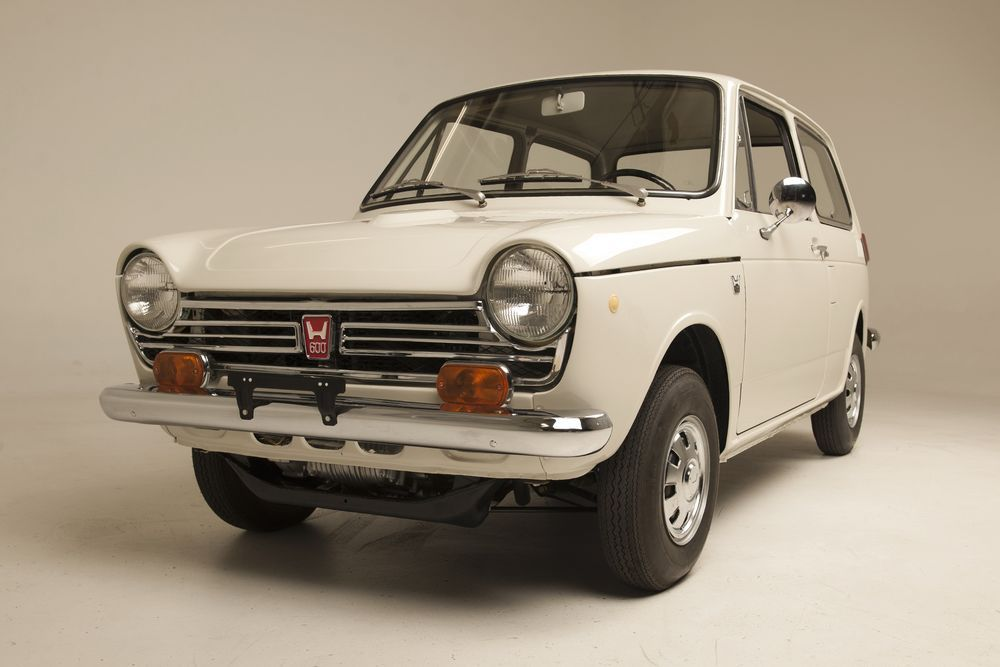sedan: (95, 64, 890, 595)
